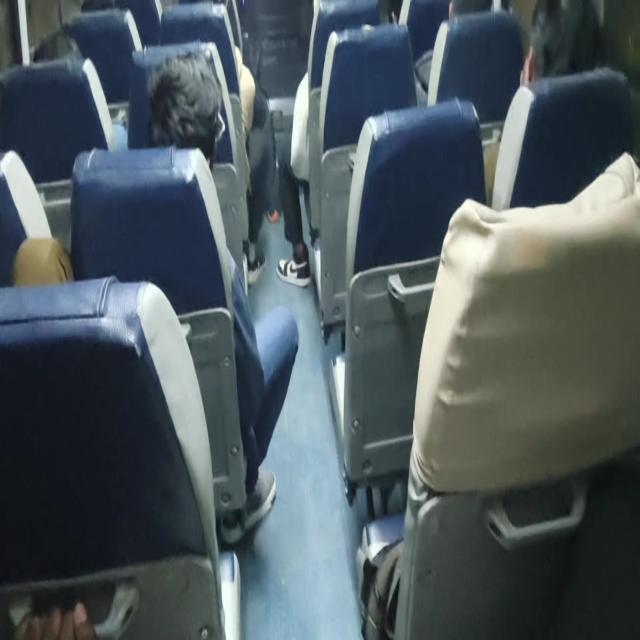person: (152, 63, 219, 164), (529, 10, 607, 87), (36, 18, 102, 77), (447, 0, 499, 30)
